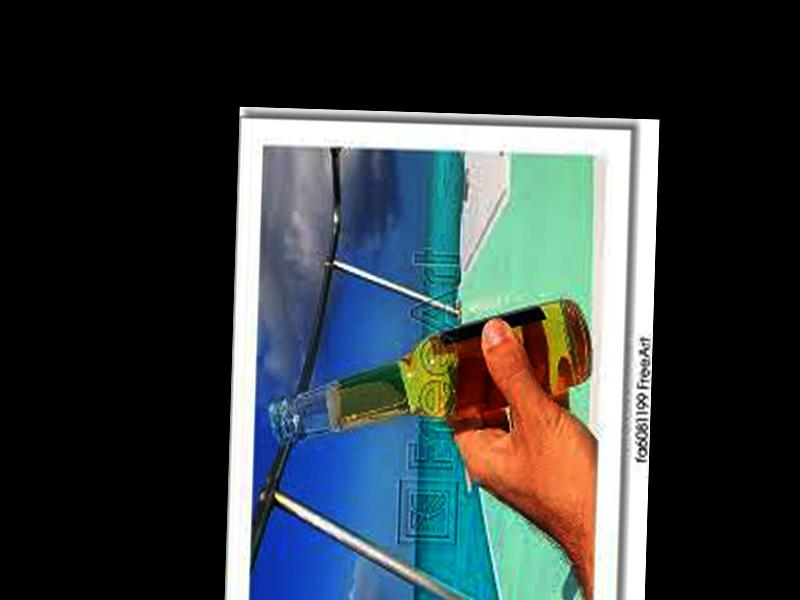Beer: (270, 288, 589, 462)
